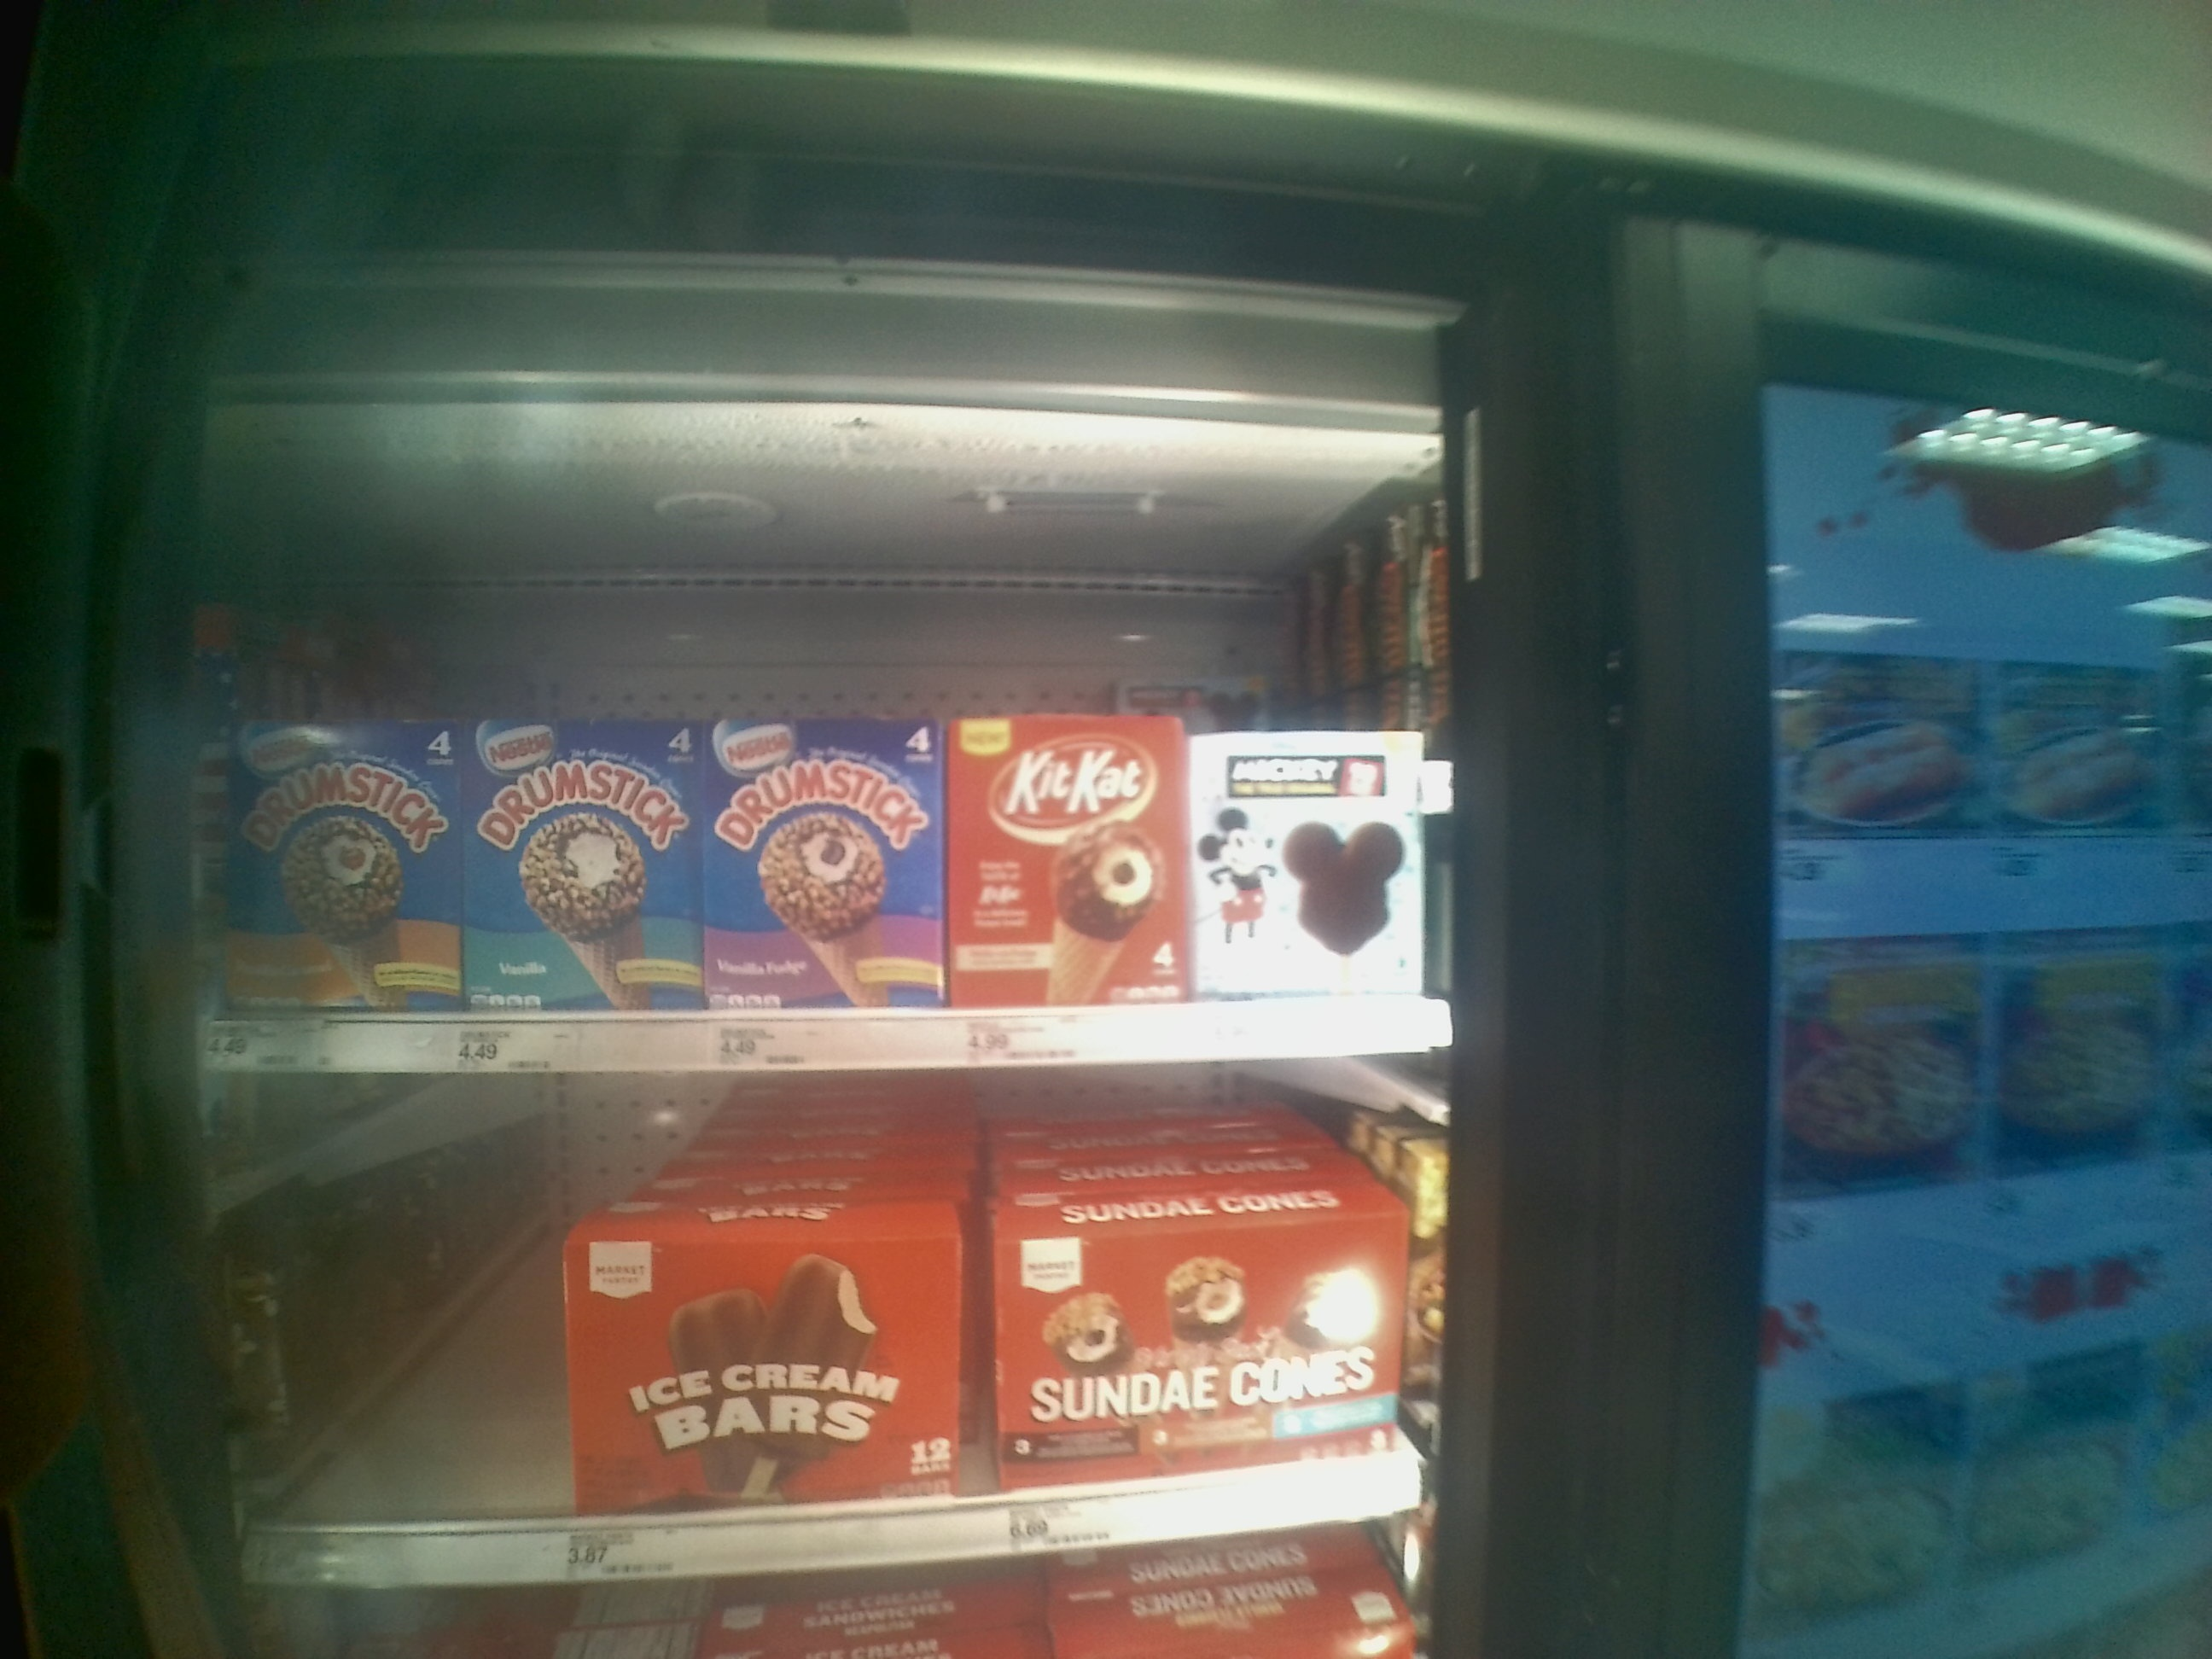shelf: (188, 1040, 1413, 1532), (185, 697, 1453, 1023)
